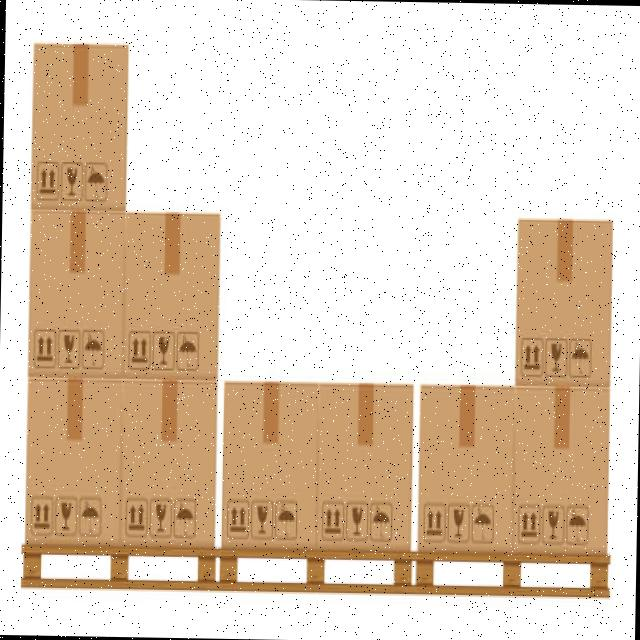Wooden-Pallets: (415, 540, 613, 604), (17, 538, 213, 594), (220, 542, 411, 594)
